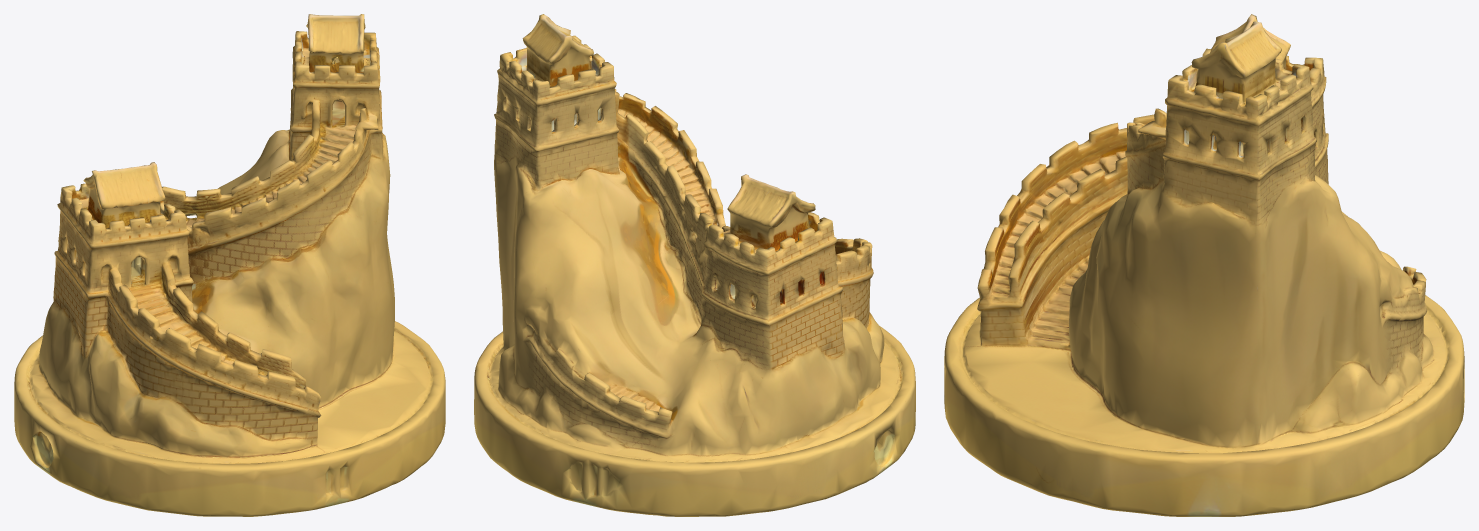
The model's file is great_wall_gold.glb.
The picture shows the model from 3 angles, left to right: view 1: azimuth 30°, elevation 25°; view 2: azimuth 150°, elevation 25°; view 3: azimuth 270°, elevation 25°; orthographic projection. The views are drawn at different scales.
Parts seen in each view (by area): view 1: Mesh_0; view 2: Mesh_0; view 3: Mesh_0.
Part boxes in pixels (x1,y1,x2,y2): Mesh_0: [14, 14, 445, 516]; Mesh_0: [474, 14, 915, 516]; Mesh_0: [944, 14, 1464, 516].
Bounding box in the file's own units: 1.91 × 1.82 × 1.91.
1 material, 1 textured.
